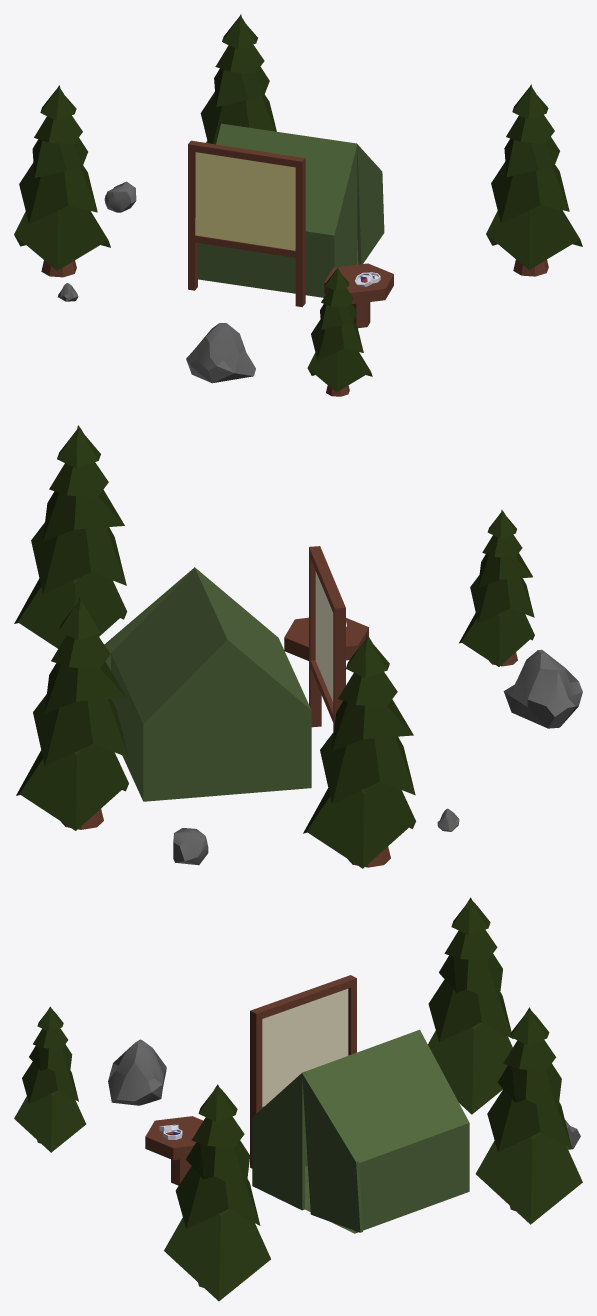
Rendered from ScoutBaseLVL2.fbx.
3 views of the same model, one above another, from view 1: azimuth 30°, elevation 25°; view 2: azimuth 150°, elevation 25°; view 3: azimuth 270°, elevation 25° (orthographic). The views are drawn at different scales.
Parts seen in each view (by area): view 1: Cube, ель.001, ель.003, Cube.004, ель.004, Cube.002, ель.002, Cube.006, Cylinder.006, Cube.003; view 2: Cube, ель.003, ель.004, ель.001, ель.002, Cube.006, Cube.002, Cube.005, Cylinder.006, Cube.003; view 3: Cube, ель.001, ель.004, ель.003, Cube.005, ель.002, Cube.002, Cube.006, Cylinder.006.
Part boxes in pixels (bbox=[...]): Cube: bbox=[198, 123, 384, 297]; ель.001: bbox=[486, 84, 582, 276]; ель.003: bbox=[14, 85, 110, 277]; Cube.004: bbox=[195, 152, 295, 250]; ель.004: bbox=[200, 14, 276, 144]; Cube.002: bbox=[188, 140, 305, 307]; ель.002: bbox=[307, 267, 372, 396]; Cube.006: bbox=[186, 323, 255, 383]; Cylinder.006: bbox=[324, 263, 393, 328]; Cube.003: bbox=[104, 181, 136, 212]; Cube: bbox=[104, 567, 311, 801]; ель.003: bbox=[303, 635, 415, 868]; ель.004: bbox=[16, 597, 128, 830]; ель.001: bbox=[14, 425, 127, 648]; ель.002: bbox=[459, 509, 534, 666]; Cube.006: bbox=[503, 649, 582, 728]; Cube.002: bbox=[309, 546, 345, 731]; Cube.005: bbox=[315, 571, 333, 702]; Cylinder.006: bbox=[284, 617, 368, 660]; Cube.003: bbox=[173, 828, 208, 865]; Cube: bbox=[252, 1029, 469, 1233]; ель.001: bbox=[164, 1084, 270, 1301]; ель.004: bbox=[475, 1007, 582, 1224]; ель.003: bbox=[428, 897, 513, 1114]; Cube.005: bbox=[262, 988, 348, 1106]; ель.002: bbox=[14, 1006, 86, 1152]; Cube.002: bbox=[250, 975, 356, 1168]; Cube.006: bbox=[108, 1039, 166, 1105]; Cylinder.006: bbox=[145, 1116, 203, 1185].
Size of the model in its own units: 798 by 312 by 810.
